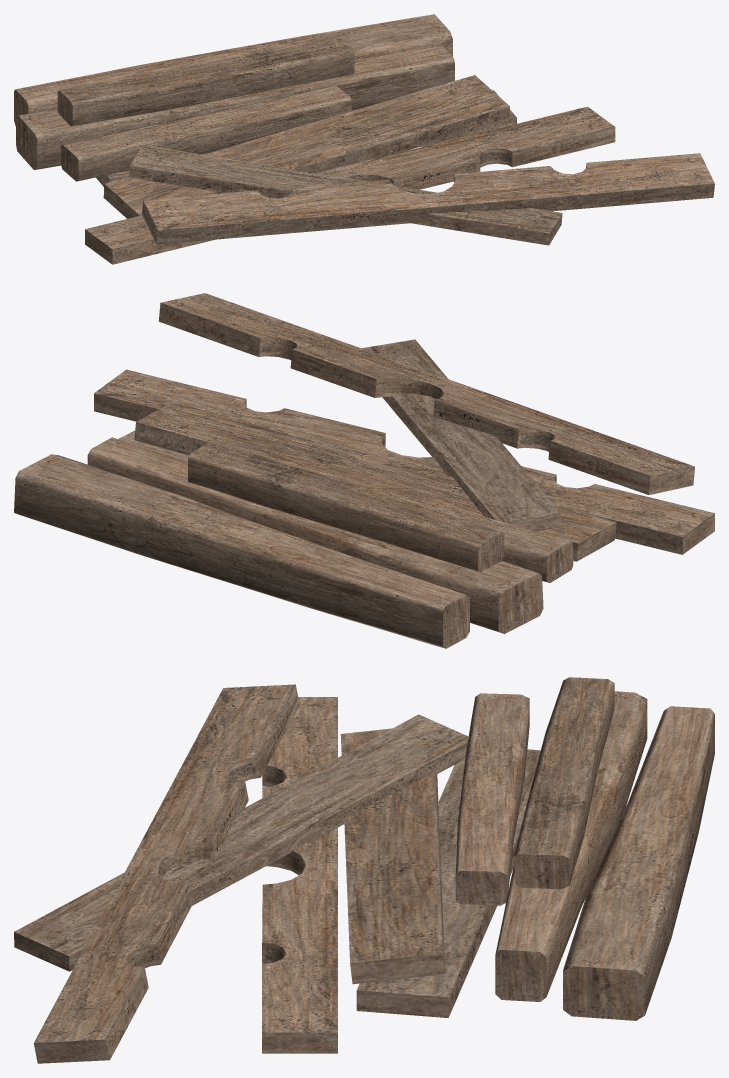
File: CA_Pillory_Construction_Stage0.fbx
The picture shows the model from 3 angles, top to bottom: view 1: azimuth 30°, elevation 25°; view 2: azimuth 150°, elevation 25°; view 3: azimuth 270°, elevation 25°; orthographic projection. The views are drawn at different scales.
Visible parts, largest first — view 1: CA_Pillory_Construction_Stage0; view 2: CA_Pillory_Construction_Stage0; view 3: CA_Pillory_Construction_Stage0.
Boxes of the visible parts, <box> form: CA_Pillory_Construction_Stage0: <box>14,14,714,264</box>; CA_Pillory_Construction_Stage0: <box>14,293,714,648</box>; CA_Pillory_Construction_Stage0: <box>14,677,714,1063</box>.
Bounding box in the file's own units: 184 × 21.55 × 154.
